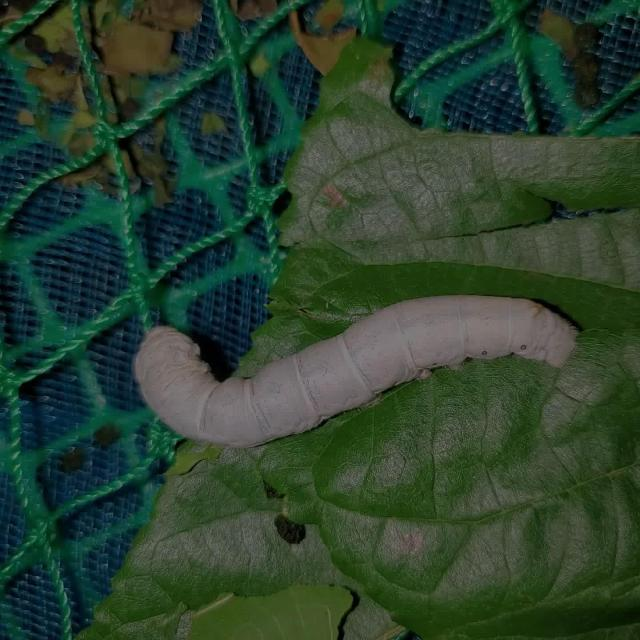Healthy: (126, 280, 594, 456)
